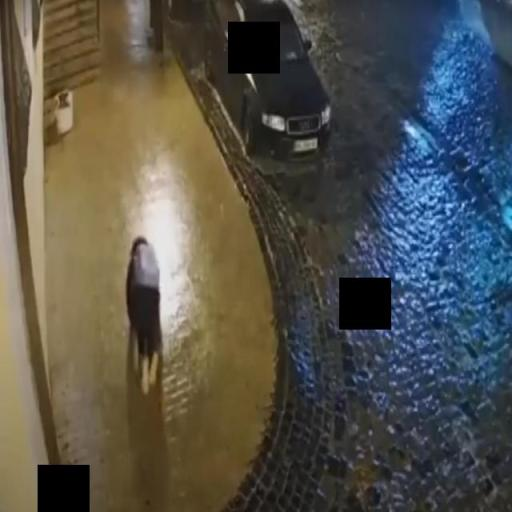Fall: (124, 227, 166, 397)
